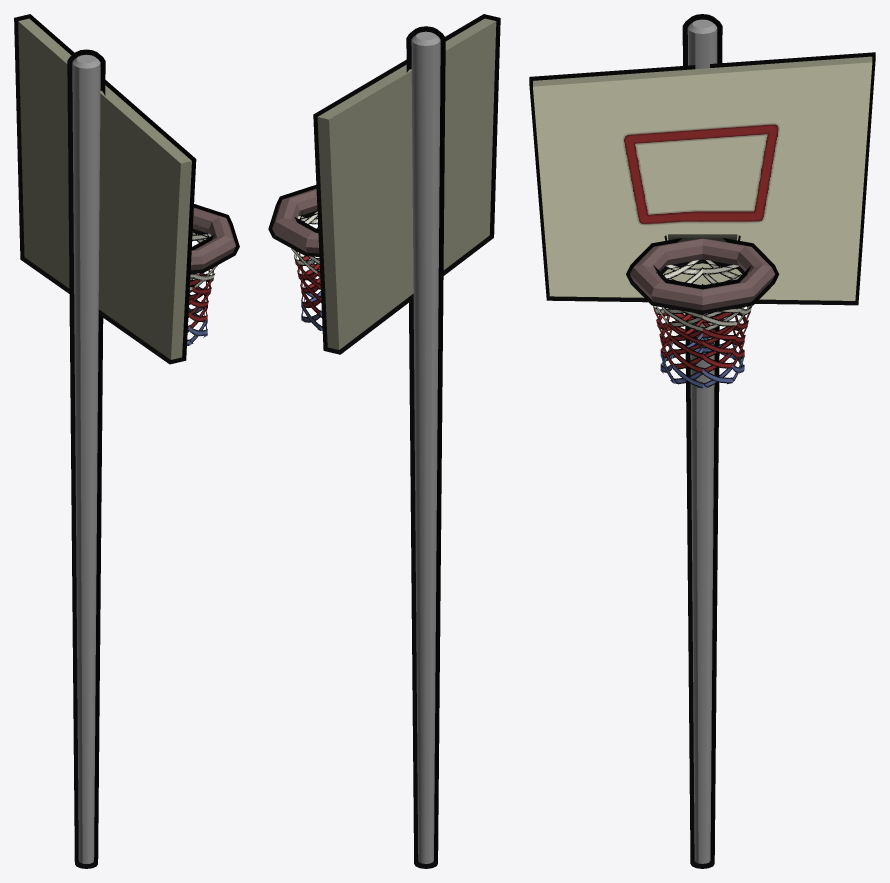
File: basketball hoop.fbx
The picture shows the model from 3 angles, left to right: view 1: azimuth 30°, elevation 25°; view 2: azimuth 150°, elevation 25°; view 3: azimuth 270°, elevation 25°; orthographic projection. The views are drawn at different scales.
Visible parts, largest first — view 1: polySurface1, polySurface5, polySurface3, pTorus7, polySurface6; view 2: polySurface1, polySurface5, polySurface3, pTorus7, polySurface6; view 3: polySurface1, polySurface5, pTorus7, polySurface3, polySurface6.
Boxes of the visible parts, x1,y1,x2,y2 form: polySurface1: (18,18,191,863); polySurface5: (14,14,196,868); polySurface3: (190,207,235,270); pTorus7: (187,230,217,345); polySurface6: (190,204,239,273); polySurface1: (317,18,496,863); polySurface5: (313,14,500,868); polySurface3: (272,188,319,253); pTorus7: (291,210,322,330); polySurface6: (268,185,319,256); polySurface1: (533,19,872,863); polySurface5: (529,14,875,868); pTorus7: (653,259,752,388); polySurface3: (630,238,775,310); polySurface6: (626,238,779,314).
Bounding box in the file's own units: 2.78 × 13.26 × 4.91.
Materials: 4 (2 with a texture image).
